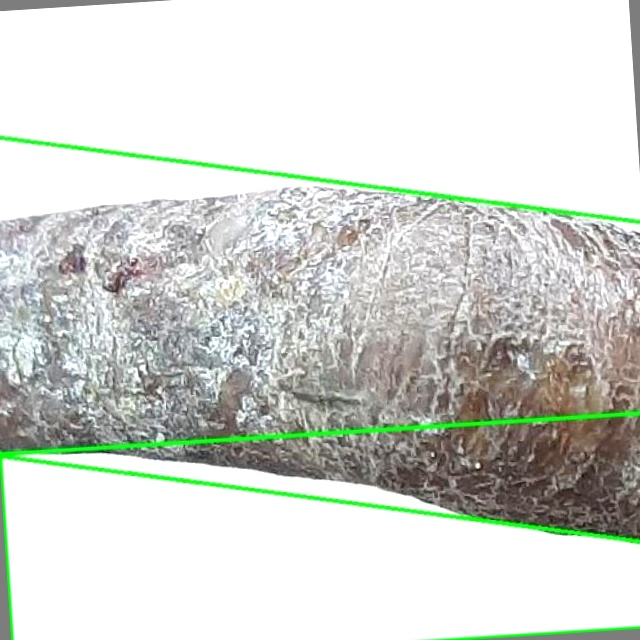Eczema: (0, 137, 639, 541), (0, 413, 639, 639)
